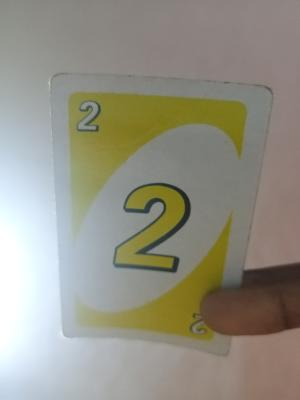num_2: (105, 174, 197, 276), (69, 86, 114, 152)
yellow: (185, 307, 205, 339)
